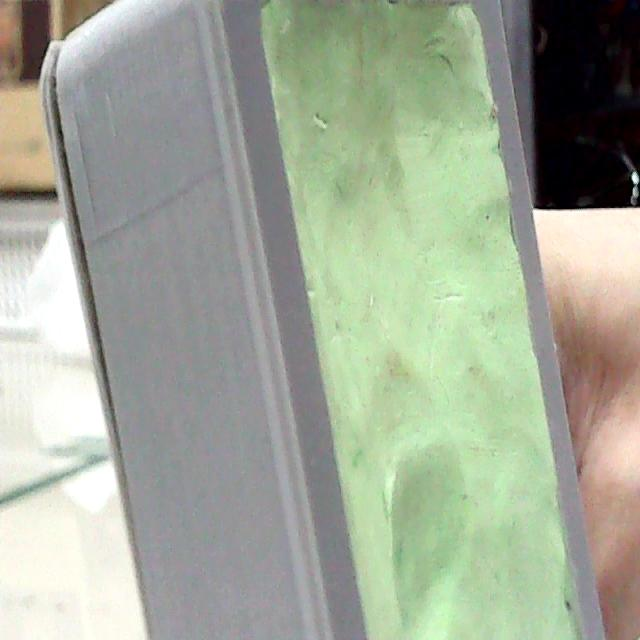block: (51, 2, 603, 640)
